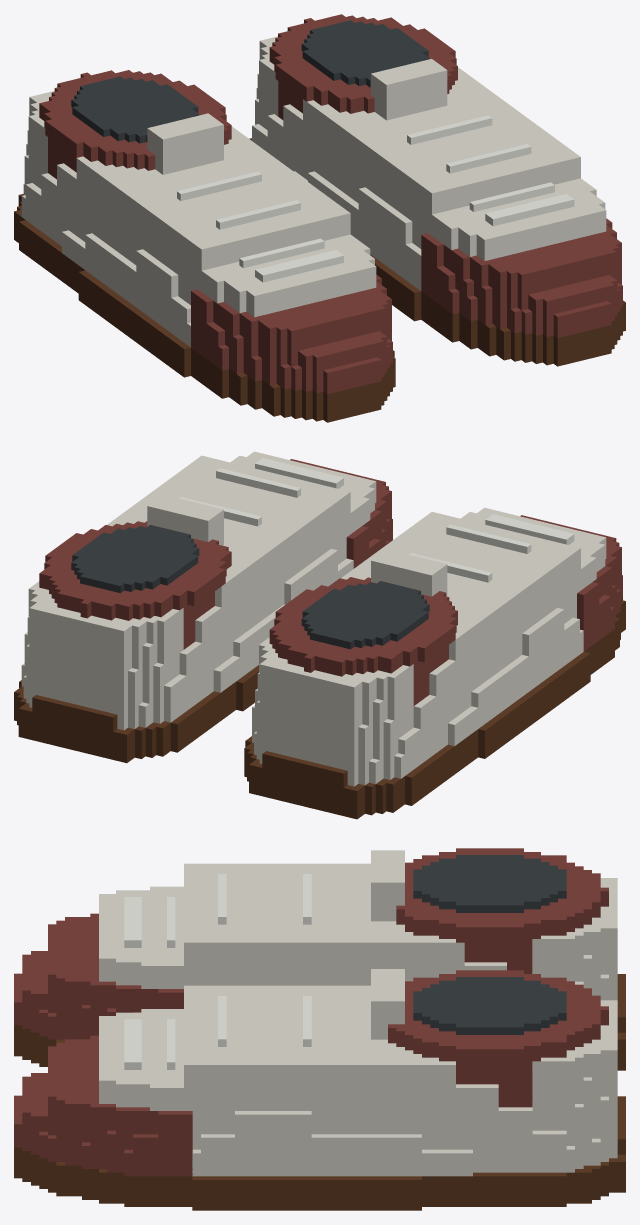
The model's file is bowling_shoes.glb.
3 views of the same model, one above another, from view 1: azimuth 30°, elevation 25°; view 2: azimuth 150°, elevation 25°; view 3: azimuth 270°, elevation 25° (orthographic). The views are drawn at different scales.
Parts seen in each view (by area): view 1: bowling_shoes:compound; view 2: bowling_shoes:compound; view 3: bowling_shoes:compound.
Boxes of the visible parts, left/top/right/bottom form: bowling_shoes:compound: left=14, top=14, right=625, bottom=422; bowling_shoes:compound: left=14, top=451, right=625, bottom=819; bowling_shoes:compound: left=14, top=848, right=625, bottom=1210.
Size of the model in its own units: 0.24 by 0.092 by 0.288.
